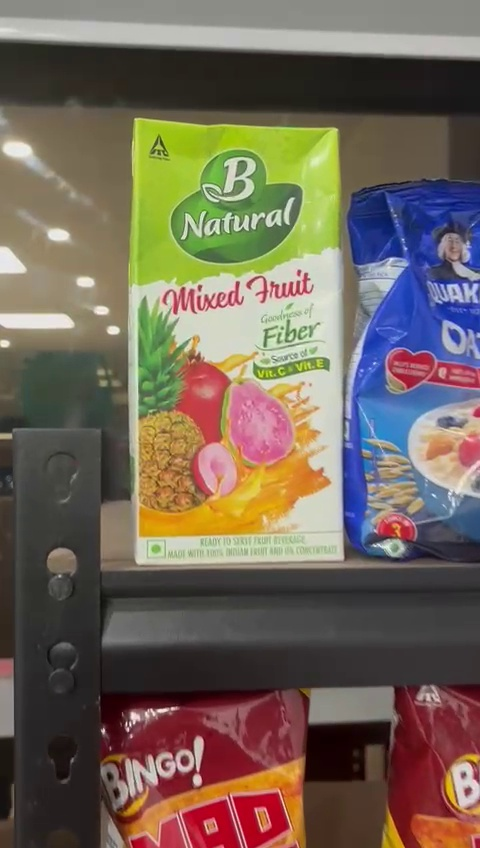Mixed Fruit: (133, 118, 344, 569)
